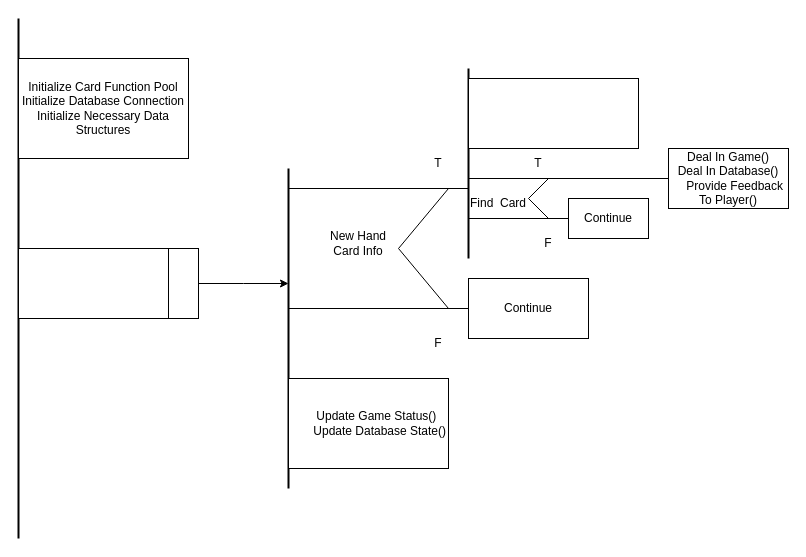
The diagram is 806 pixels wide and 557 high, and some of its shapes have lost their labels. Here are the shapes that lost their labels. From the top down, the box of each, then its label:
(468, 78, 638, 148): Receive Raw Info() Clarify Data() Find Card Function() Find Hand Card()
(18, 248, 168, 318): While Game isn't Over
